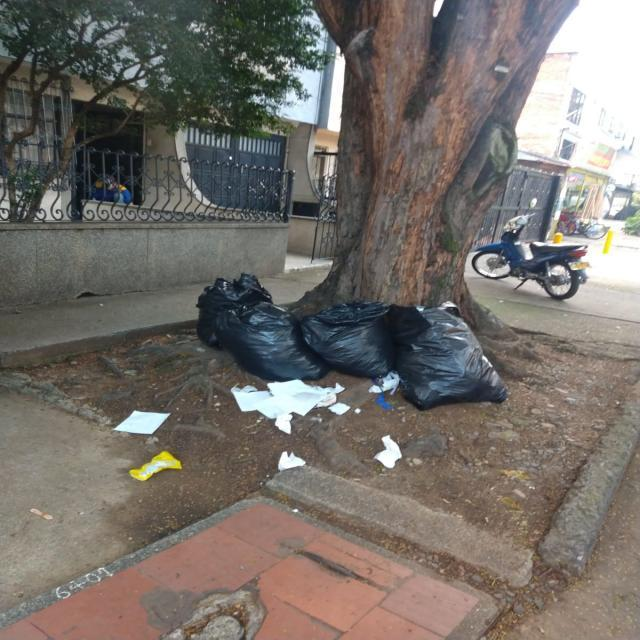Trashbag: (393, 303, 508, 411), (309, 296, 404, 382), (237, 310, 315, 387), (197, 271, 262, 338)
